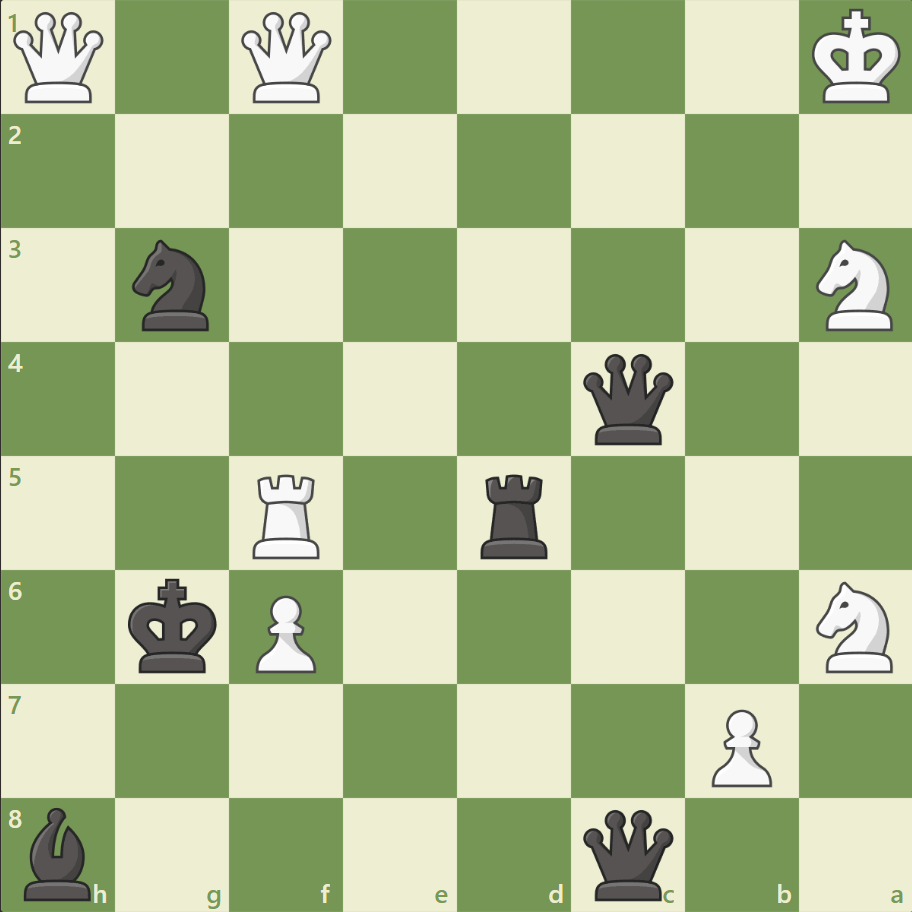K: (806, 4, 906, 112)
N: (806, 234, 903, 337), (806, 575, 903, 677)
P: (701, 700, 776, 791), (247, 586, 322, 677)
Q: (237, 9, 336, 108), (10, 9, 109, 108)
R: (246, 466, 329, 563)
b: (17, 801, 101, 904)
k: (124, 571, 224, 679)
n: (124, 234, 222, 337)
q: (578, 349, 677, 449), (578, 804, 677, 903)
r: (473, 466, 556, 563)
